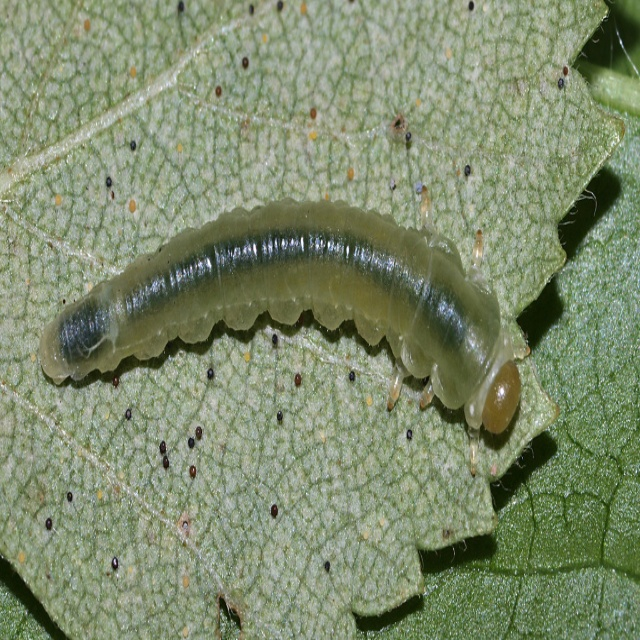Caterpillar: (35, 206, 551, 460)
